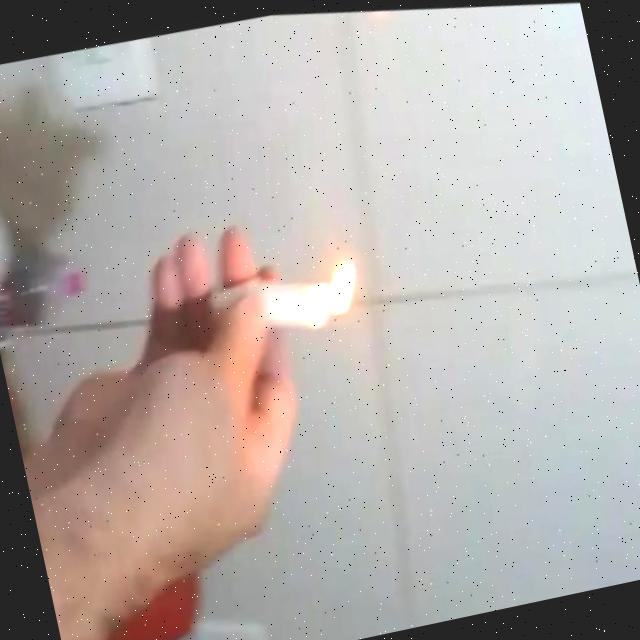fire: (316, 251, 364, 317)
